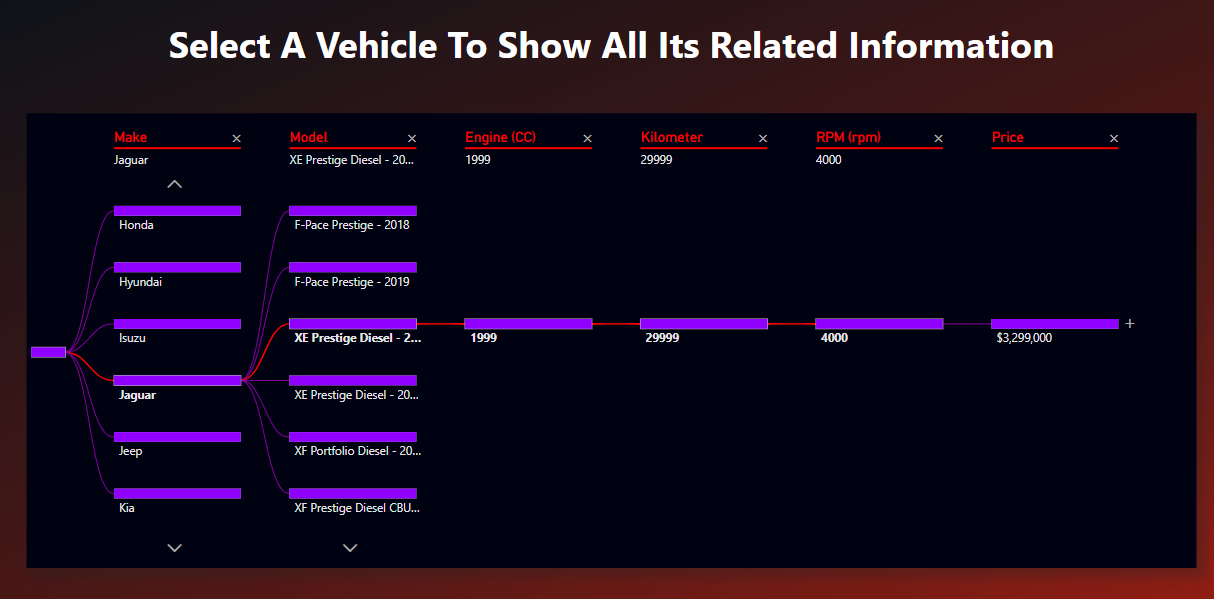

This screenshot's page, from the dashboard's own definition file:
{"tool":"powerbi","page":{"name":"Select Vehicle","canvas":[1280,720],"ordinal":2},"visuals":[{"type":"decompositionTreeVisual","fields":{"Analyze":["Count(Vehicles_Dataset.Make)"],"ExplainBy":["Vehicles_Dataset.Make","Vehicles_Dataset.Model","Vehicles_Dataset.Engine (CC)","Vehicles_Dataset.Kilometer","Vehicles_Dataset.RPM (rpm)","Vehicles_Dataset.Price","Vehicles_Dataset.Color"]},"box":[43.6,150,1200,466.7],"z":1000},{"type":"textbox","box":[43.6,48.7,1200,66.7],"z":2000}]}

Visuals, with their boxes on the page's 1280x720 design canvas (x1, y1, x2, y2). These are canvas units, not pixel positions in the 1214x599 screenshot, which may show the page scaled, cropped or inside an application window:
decompositionTreeVisual - Count(Vehicles_Dataset.Make) x Vehicles_Dataset.Make: [44,150,1244,617]
textbox: [44,49,1244,115]
